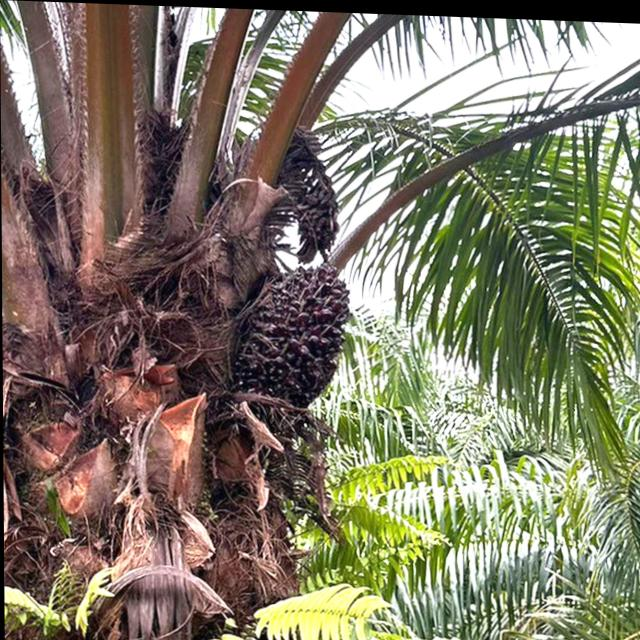ripe: (232, 247, 356, 412)
